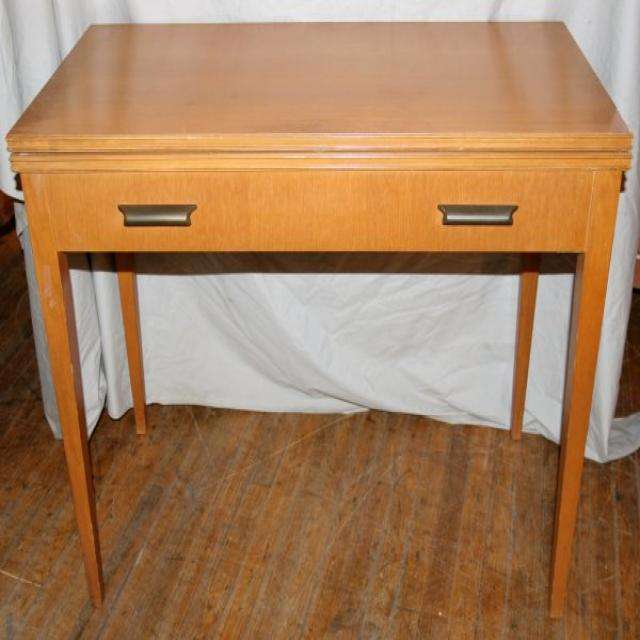table: (4, 19, 635, 626)
